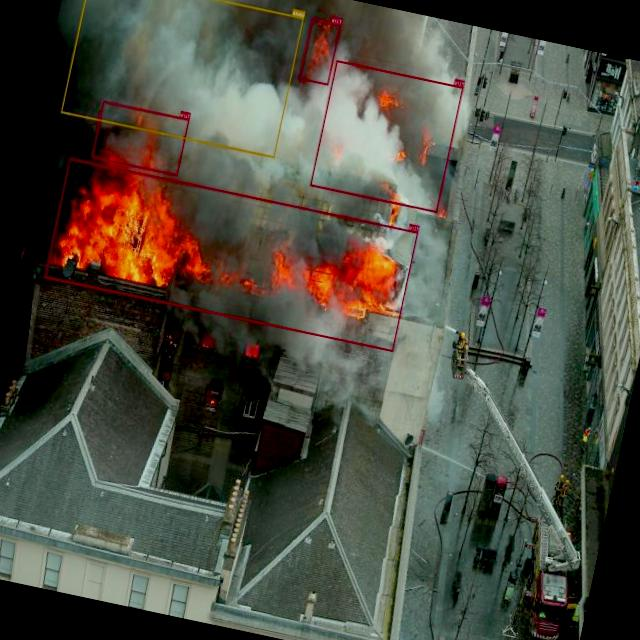fire: (44, 157, 418, 351), (310, 60, 463, 212), (92, 100, 190, 175), (299, 17, 341, 84)
smoke: (60, 0, 303, 157)
